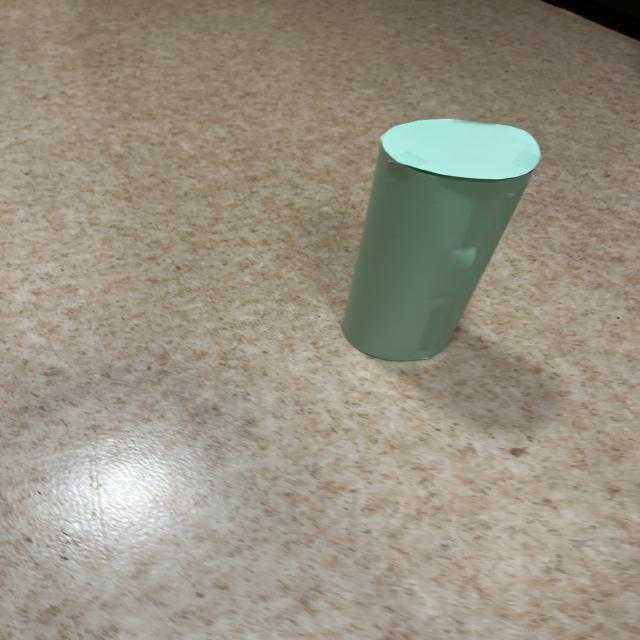meta: (343, 119, 540, 361)
